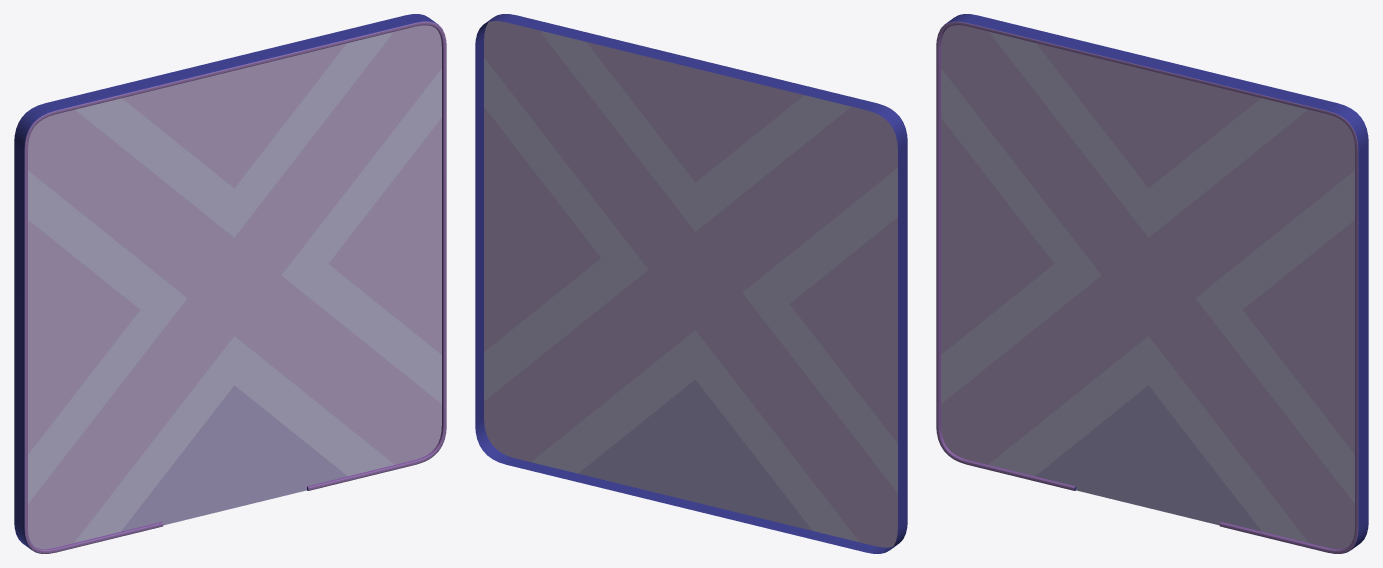
File: W_Stage_1.FBX
3 views of the same model, side by side, from view 1: azimuth 30°, elevation 25°; view 2: azimuth 150°, elevation 25°; view 3: azimuth 330°, elevation 25° (orthographic).
Visible parts, largest first — view 1: W_Stage_1; view 2: W_Stage_1; view 3: W_Stage_1.
Boxes of the visible parts, x1,y1,x2,y2 form: W_Stage_1: (14,14,446,553); W_Stage_1: (475,14,907,553); W_Stage_1: (936,14,1368,553).
Size of the model in its own units: 2190 by 92.3 by 2190.
